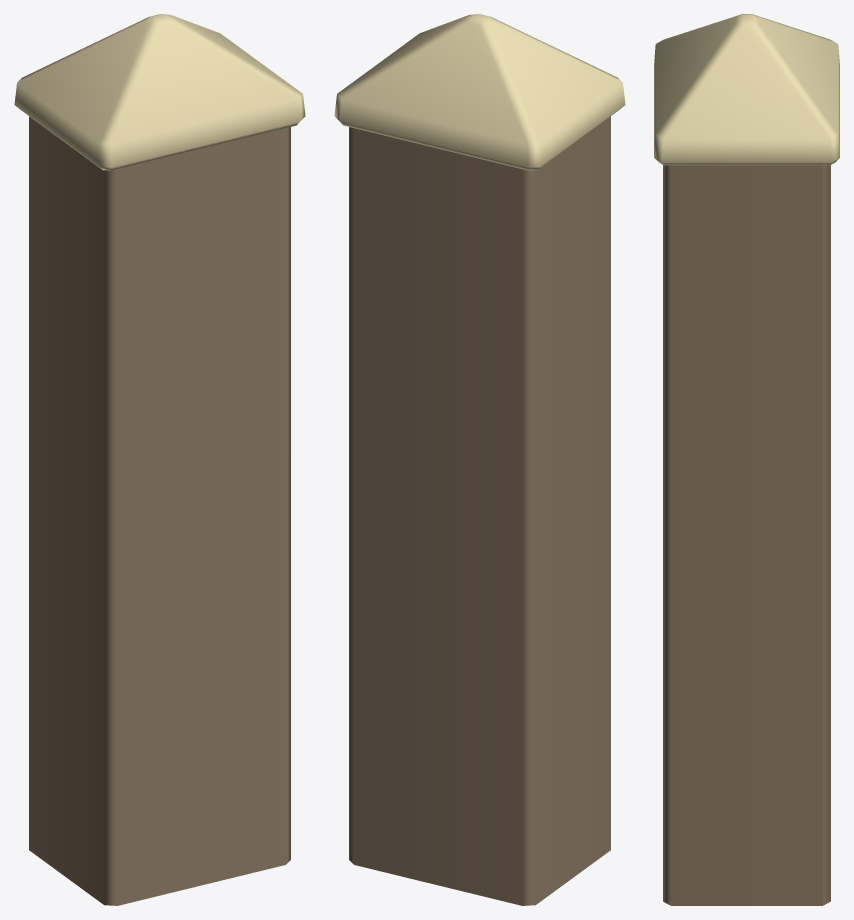
Rendered from TallFenceEnd_MDL.fbx.
3 views of the same model, side by side, from view 1: azimuth 30°, elevation 25°; view 2: azimuth 150°, elevation 25°; view 3: azimuth 270°, elevation 25° (orthographic).
Visible parts, largest first — view 1: TallFenceEnd_GEO; view 2: TallFenceEnd_GEO; view 3: TallFenceEnd_GEO.
Part boxes in pixels (x1=…): TallFenceEnd_GEO: x1=14, y1=14, x2=305, y2=905; TallFenceEnd_GEO: x1=334, y1=14, x2=625, y2=905; TallFenceEnd_GEO: x1=654, y1=14, x2=839, y2=905.
Size of the model in its own units: 49.86 by 193 by 38.61.
